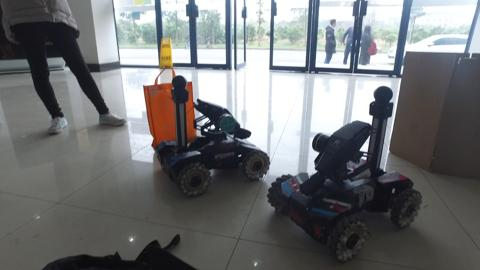box: (392, 50, 479, 179)
chariot: (268, 85, 422, 261), (154, 74, 268, 196)
